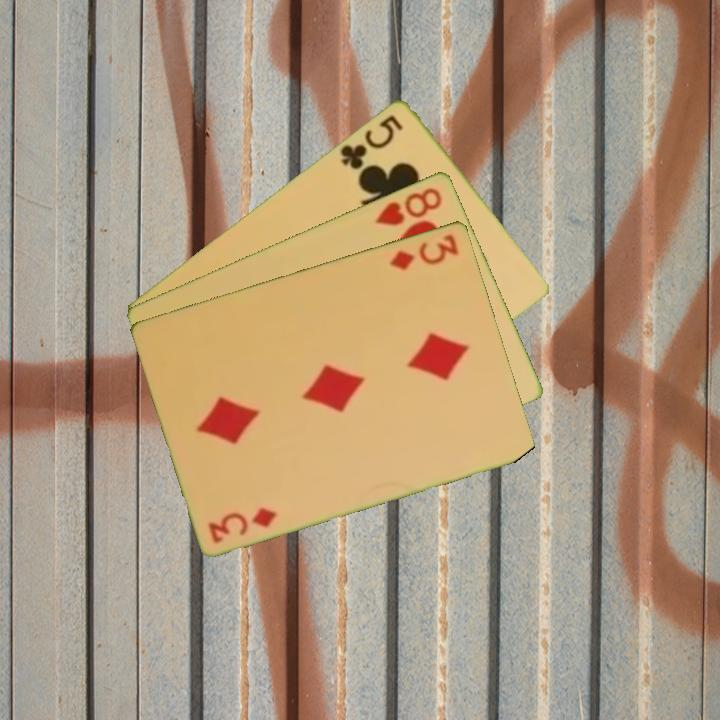3d: (386, 230, 462, 273), (204, 503, 280, 545)
5c: (336, 111, 406, 172)
8h: (371, 183, 445, 228)
